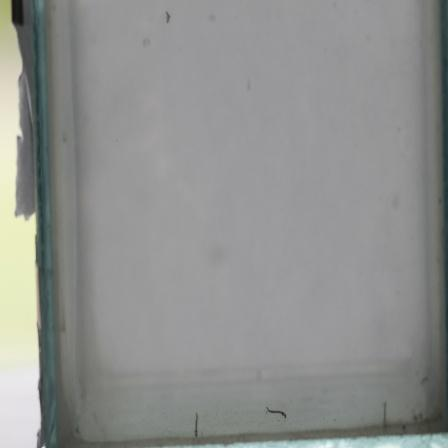Jentik-Nyamuk: (264, 405, 290, 422), (192, 412, 202, 442), (163, 8, 174, 25)
